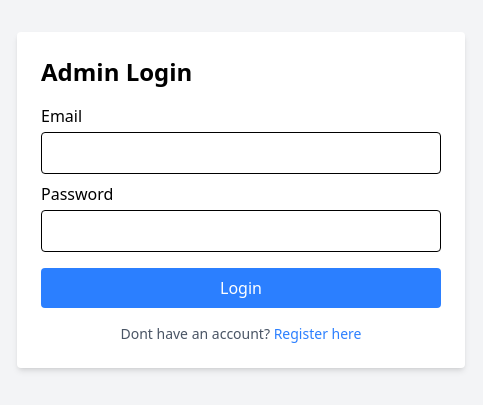
Test: Login Component › shows error if password is wrong
The image size is (483, 405).
In the field labelled "Email": (241, 153) [41,132,441,174], type "a@a.com"
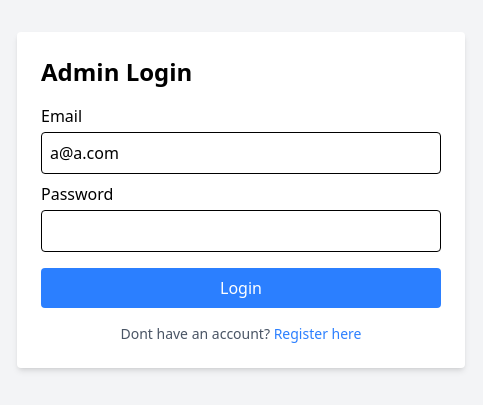
In the password field labelled "Password": (241, 231) [41,210,441,252], type "wrong"
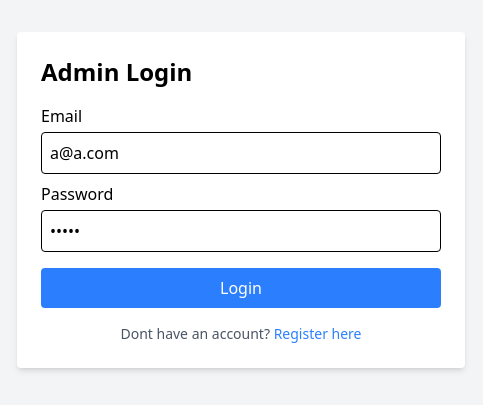
Click the button "Login": (241, 288) [41,268,441,308]
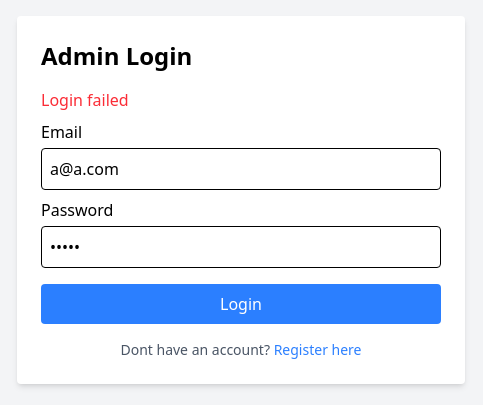
Now the text "Login failed" is shown, box [41,89,129,111]
